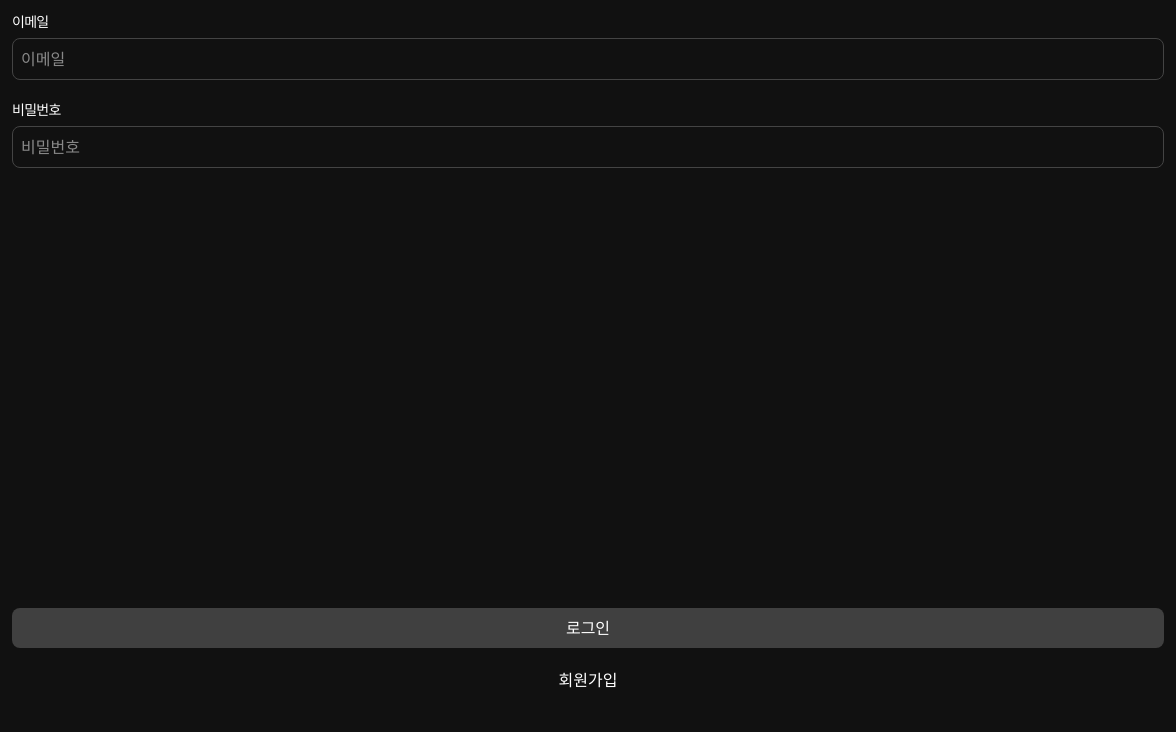
시나리오 1: 로그인 (/signin) › 유효성 검사 › 이메일 형식이 올바르지 않으면 제출 시 에러 메시지를 보여준다
This screenshot has width=1176, height=732.
Type "invalid-email" into the field labelled "이메일". click: [588, 59]
box: [12,38,1164,80]
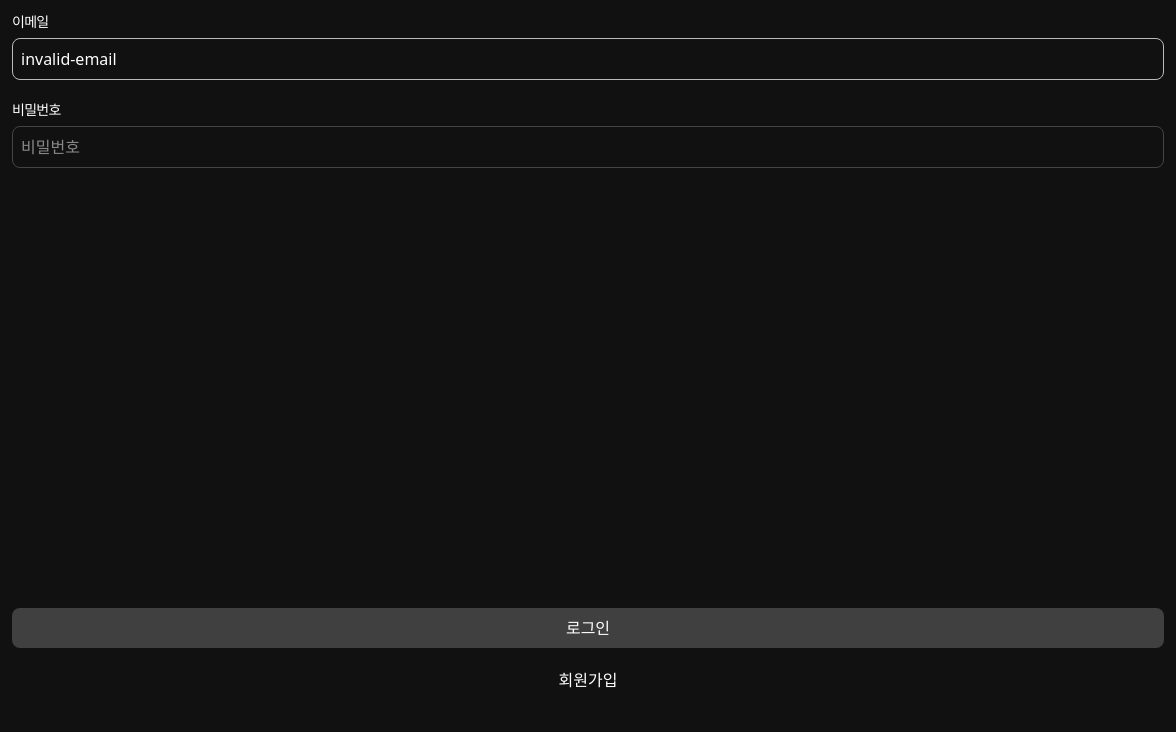
Type "password1!" into the password field labelled "비밀번호". click: [588, 147]
box: [12,126,1164,168]
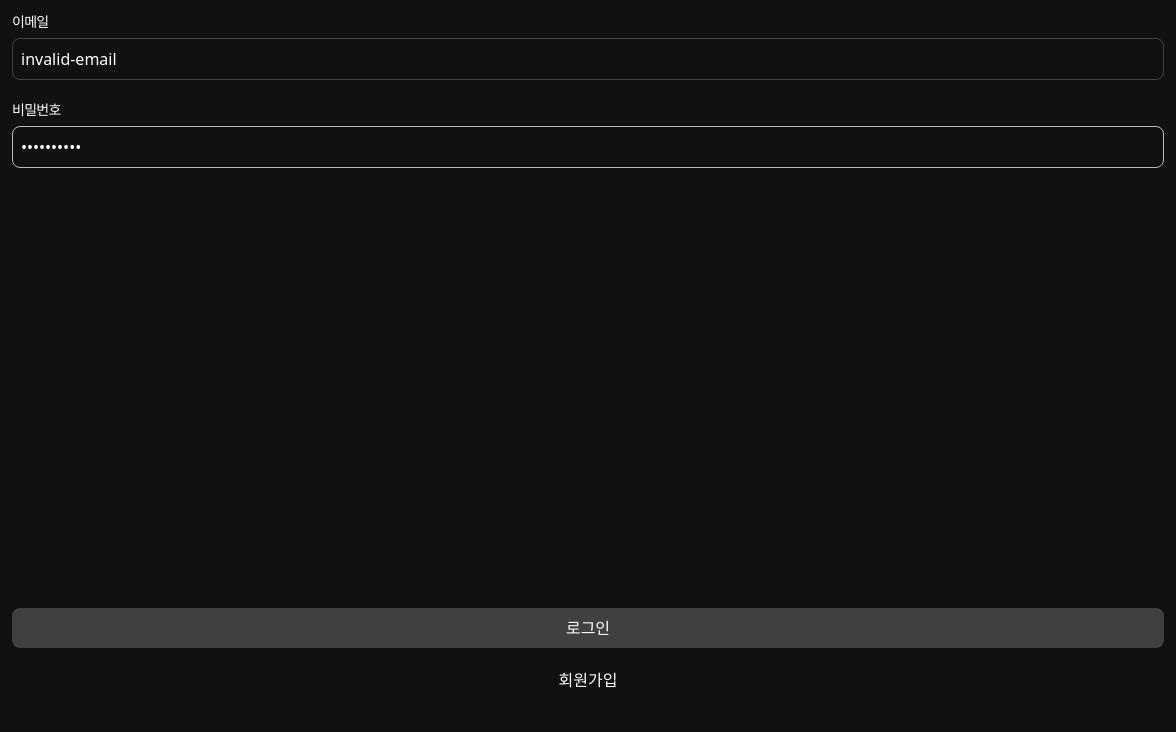
Click the button "로그인". click: [588, 628]
box: [12,608,1164,648]
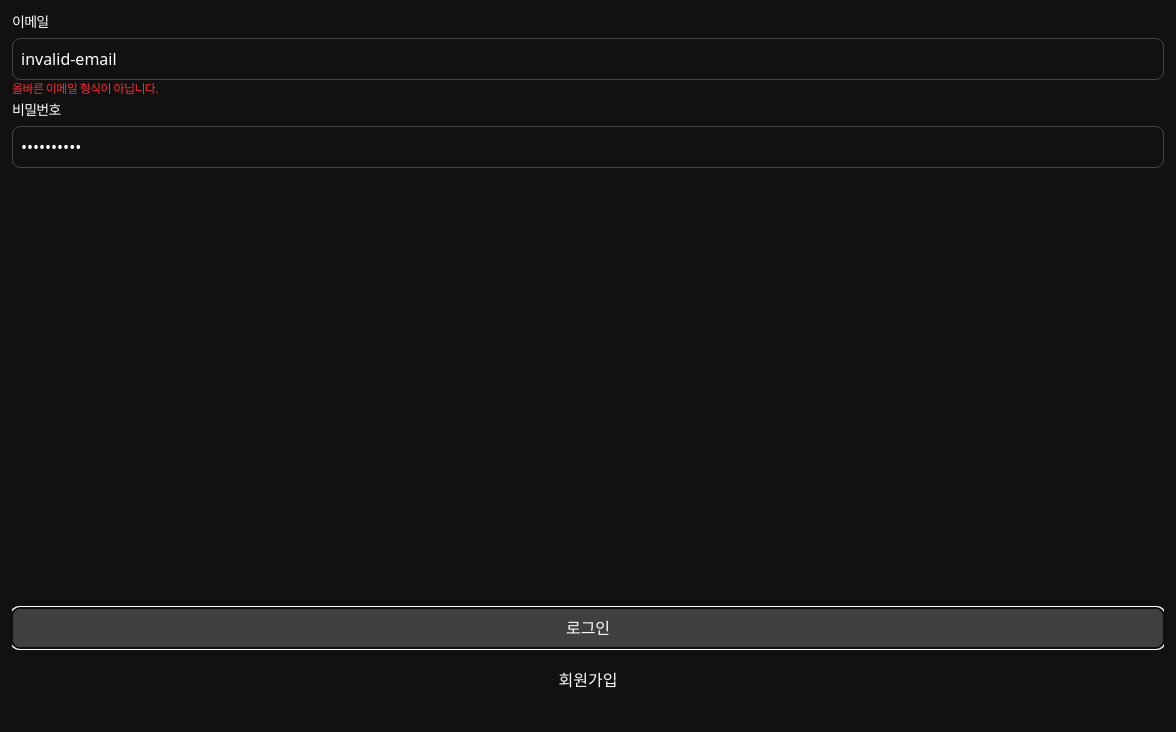
Result: the text "올바른 이메일 형식이 아닙니다." is shown at [12,80,158,98]
